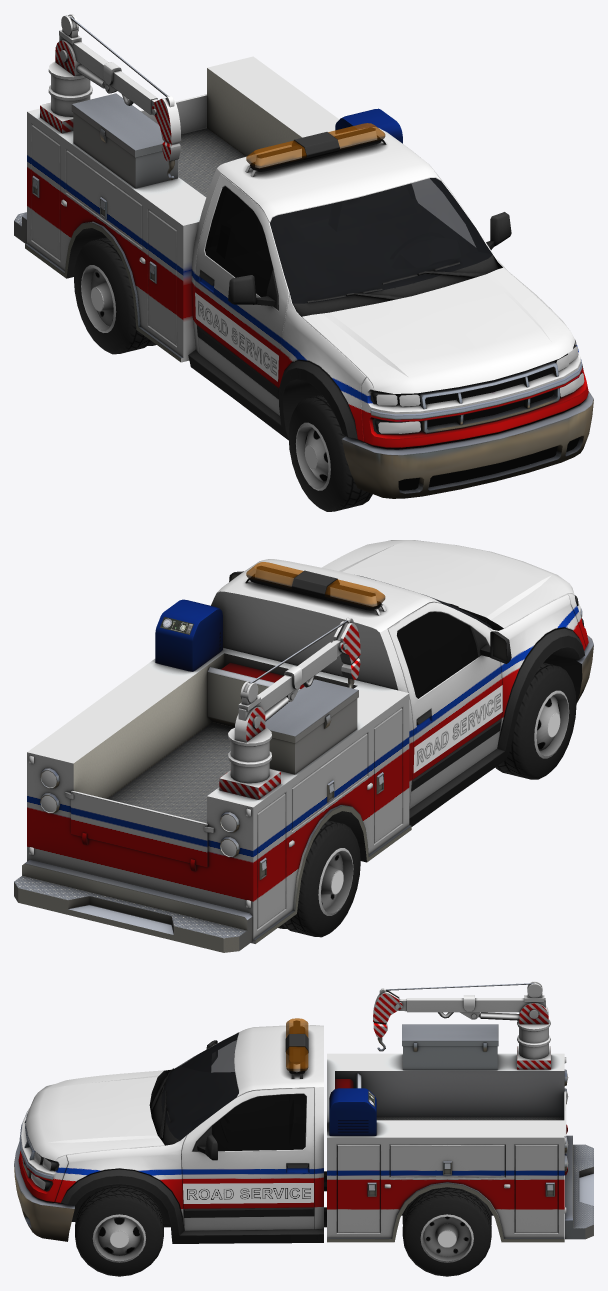
Rendered from servicetruck.fbx.
The picture shows the model from 3 angles, top to bottom: view 1: azimuth 30°, elevation 25°; view 2: azimuth 150°, elevation 25°; view 3: azimuth 270°, elevation 25°; orthographic projection. The views are drawn at different scales.
Parts seen in each view (by area): view 1: rdservtruck, rdservtruck_WheelFR, rdservtruck_WheelRR; view 2: rdservtruck, rdservtruck_WheelFR, rdservtruck_WheelRR; view 3: rdservtruck, rdservtruck_WheelFL, rdservtruck_WheelRL.
Boxes of the visible parts, x1,y1,x2,y2 form: rdservtruck: (14,14,593,498); rdservtruck_WheelFR: (288,394,372,511); rdservtruck_WheelRR: (74,237,156,354); rdservtruck: (14,540,593,952); rdservtruck_WheelFR: (495,662,576,779); rdservtruck_WheelRR: (278,820,360,937); rdservtruck: (14,981,593,1243); rdservtruck_WheelFL: (75,1185,163,1276); rdservtruck_WheelRL: (402,1187,491,1276).
Bounding box in the file's own units: 2336 × 2293 × 5513.
